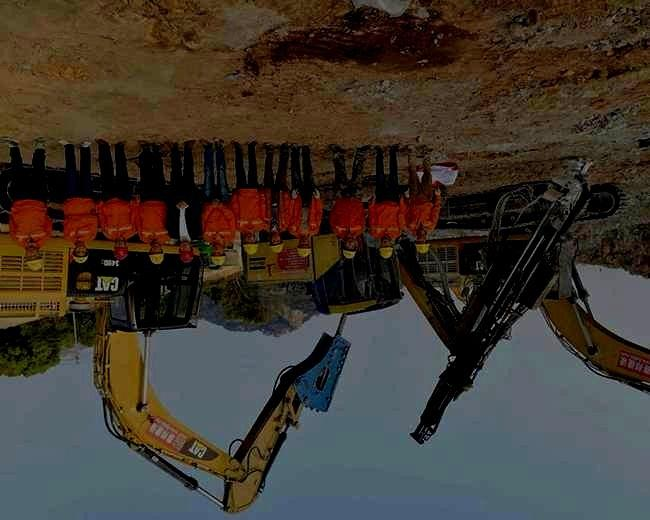helmet: (24, 245, 44, 272), (210, 241, 226, 266), (242, 232, 259, 255), (148, 242, 164, 265), (113, 239, 129, 260), (296, 236, 311, 258), (179, 241, 194, 263), (72, 245, 89, 264), (415, 233, 430, 254), (378, 238, 393, 258), (342, 239, 357, 259), (269, 233, 284, 253)
